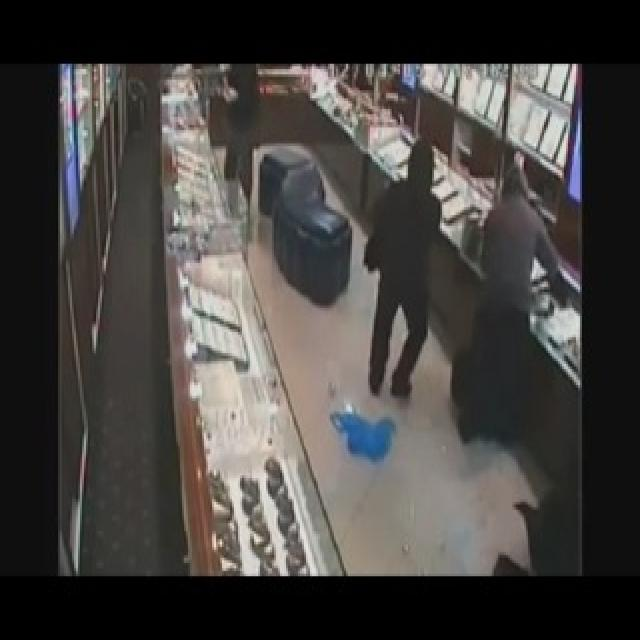thief: (454, 161, 550, 448), (356, 137, 446, 391), (218, 60, 264, 204)
